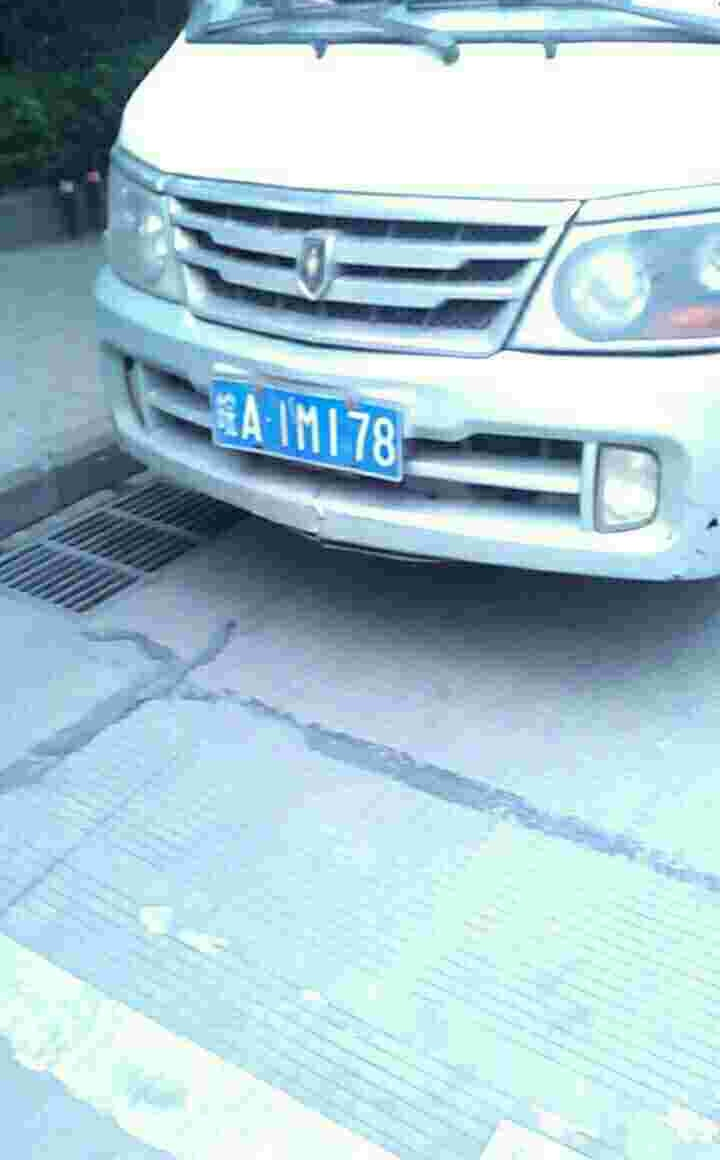car: (208, 371, 424, 484)
